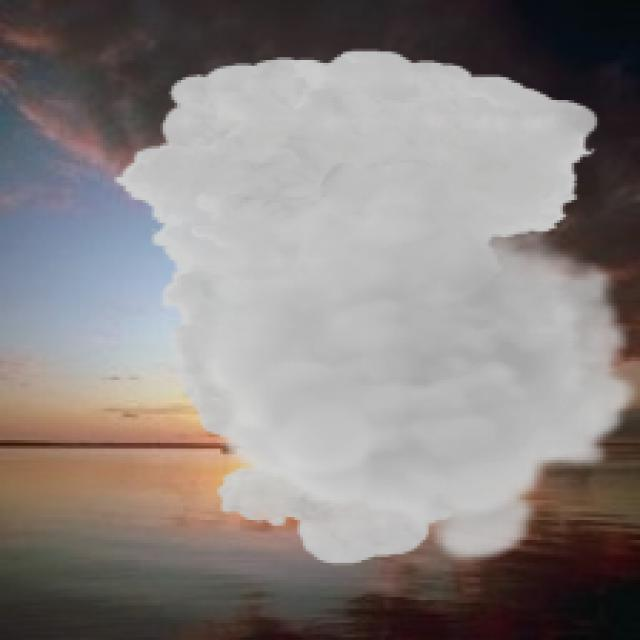smoke: (112, 49, 637, 568)
